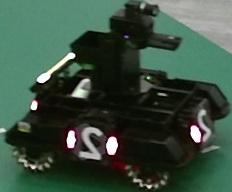armor_2: (66, 130, 118, 157)
front_2: (193, 104, 213, 144)
light: (37, 51, 76, 84)
right_2: (75, 124, 106, 162)
